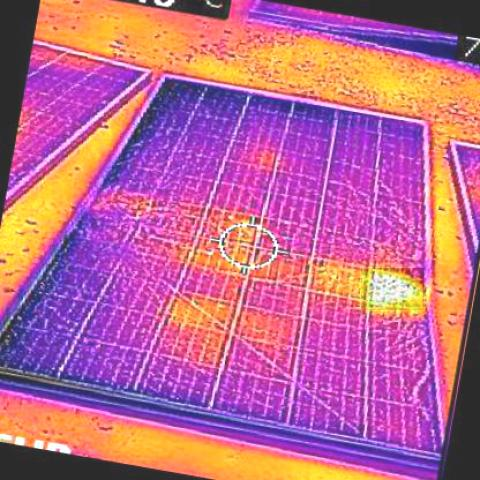fault: (361, 268, 424, 310)
